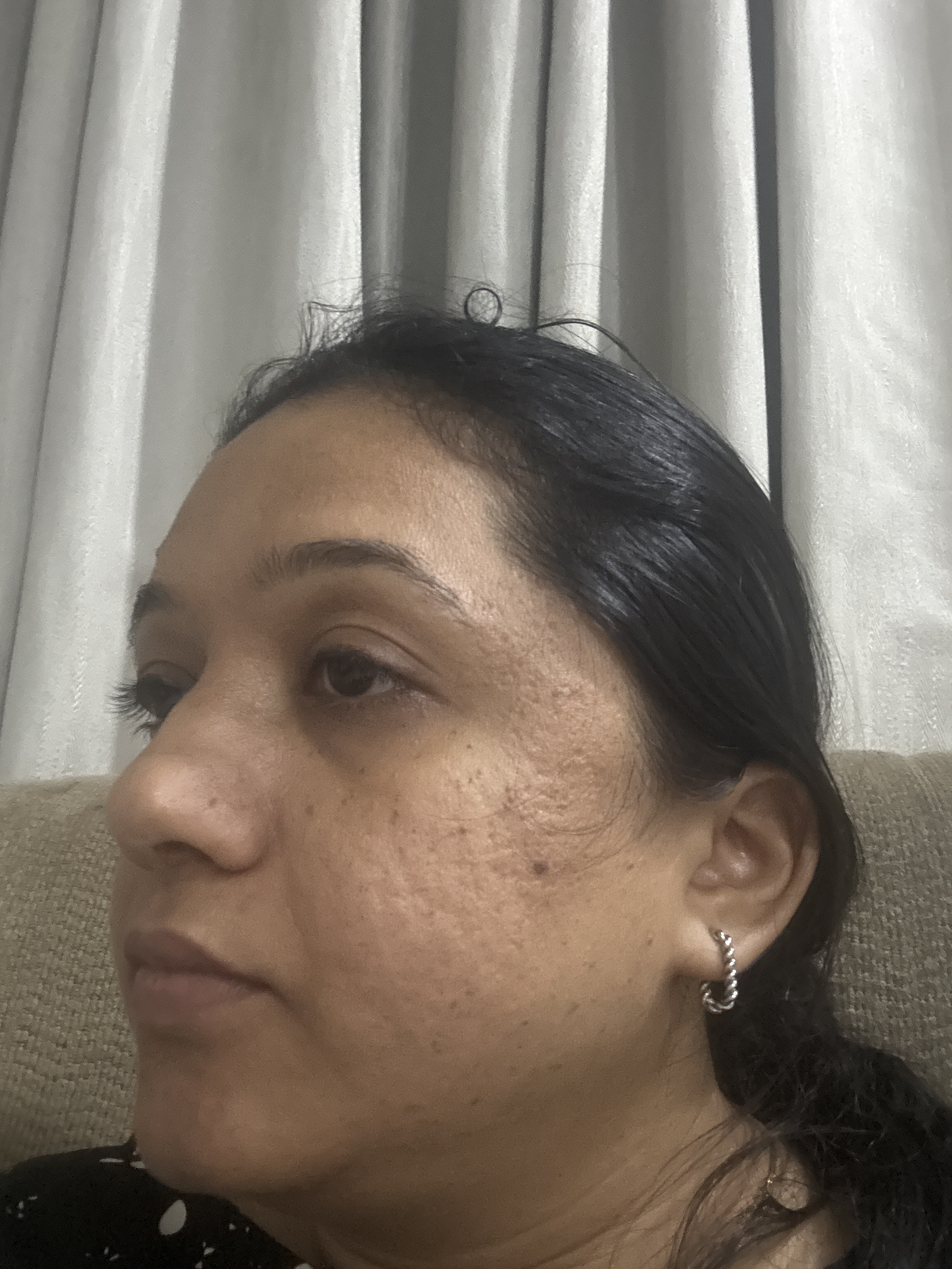open_comedone: (492, 779, 522, 819)
